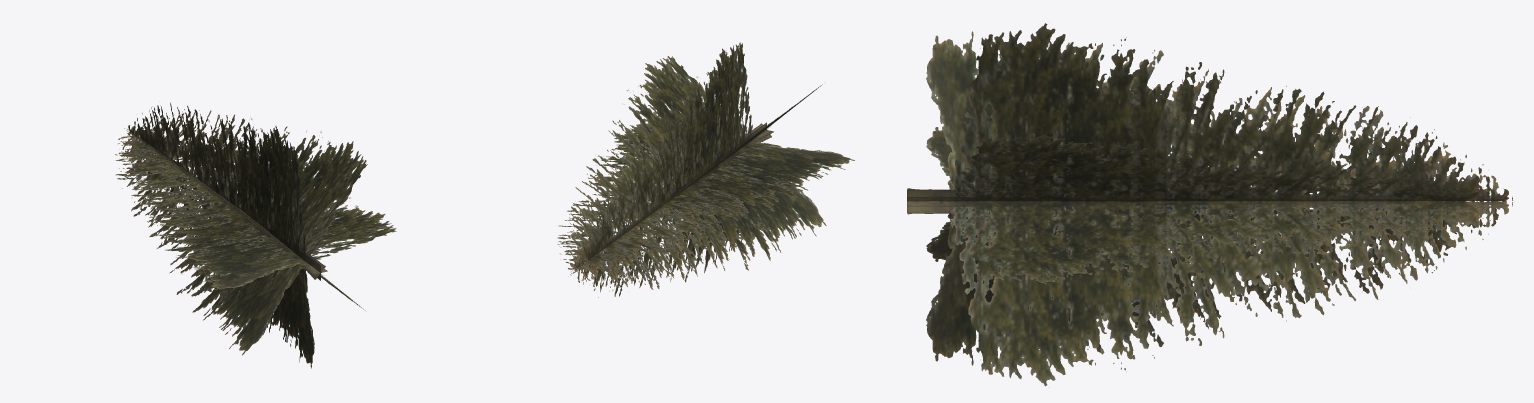
Rendered from tree5.fbx.
3 views of the same model, side by side, from view 1: azimuth 30°, elevation 25°; view 2: azimuth 150°, elevation 25°; view 3: azimuth 270°, elevation 25° (orthographic). The views are drawn at different scales.
Visible parts, largest first — view 1: Tree5; view 2: Tree5; view 3: Tree5.
Part boxes in pixels (left/top/right/bottom): Tree5: left=115, top=102, right=396, bottom=368; Tree5: left=557, top=42, right=854, bottom=297; Tree5: left=907, top=23, right=1512, bottom=386.
Bounding box in the file's own units: 390 × 390 × 600.
